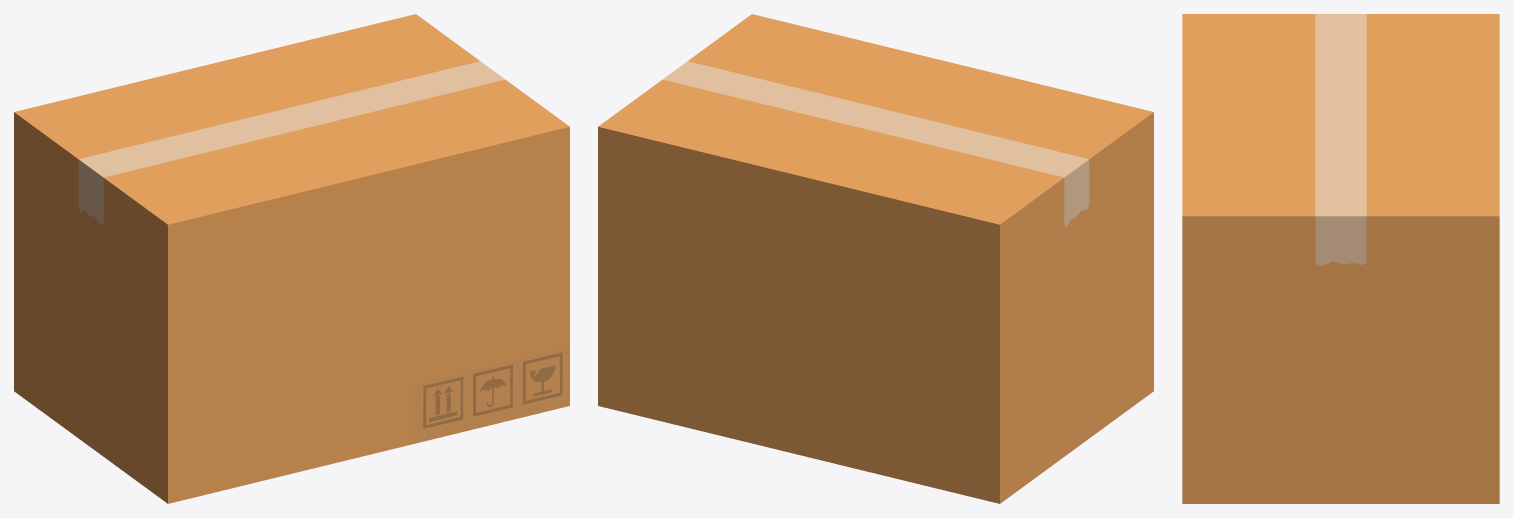
Rendered from Koli.fbx.
The picture shows the model from 3 angles, left to right: view 1: azimuth 30°, elevation 25°; view 2: azimuth 150°, elevation 25°; view 3: azimuth 270°, elevation 25°; orthographic projection. The views are drawn at different scales.
Visible parts, largest first — view 1: koli; view 2: koli; view 3: koli.
Boxes of the visible parts, box(x1,y1,x2,y2) form: koli: box(14, 14, 569, 503); koli: box(598, 14, 1153, 503); koli: box(1182, 14, 1499, 503).
Size of the model in its own units: 927 by 615 by 615.
